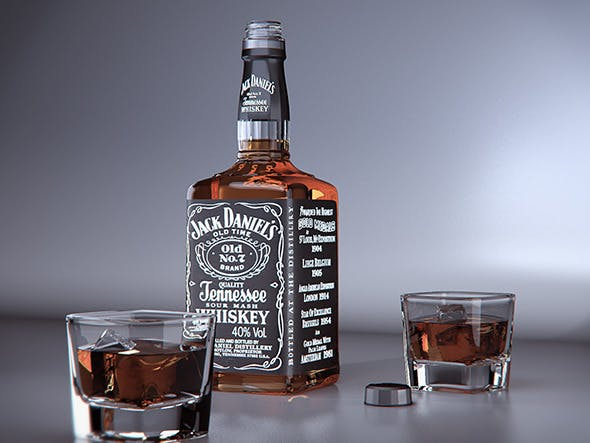Jack Daniel: (173, 14, 351, 403)
